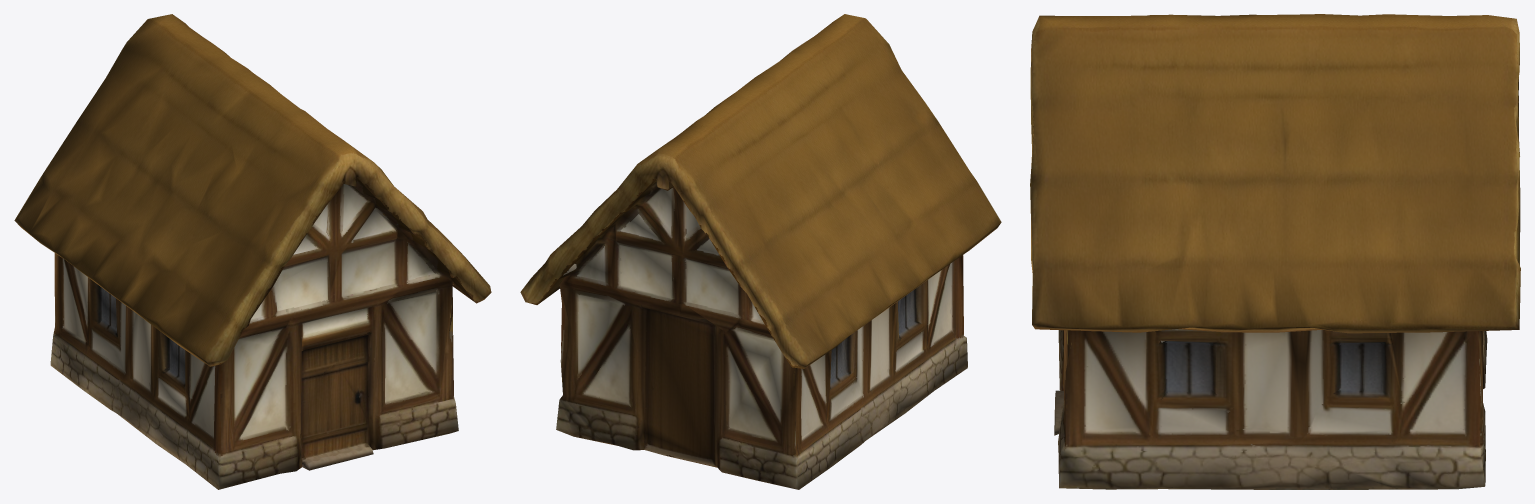
Rendered from house.glb.
The picture shows the model from 3 angles, left to right: view 1: azimuth 30°, elevation 25°; view 2: azimuth 150°, elevation 25°; view 3: azimuth 270°, elevation 25°; orthographic projection. The views are drawn at different scales.
Visible parts, largest first — view 1: geometry_0; view 2: geometry_0; view 3: geometry_0.
Boxes of the visible parts, x1,y1,x2,y2 form: geometry_0: (14,14,491,489); geometry_0: (520,14,1001,489); geometry_0: (1030,14,1520,489).
Bounding box in the file's own units: 0.9667 × 1 × 1.12.
Materials: 1 (1 with a texture image).
